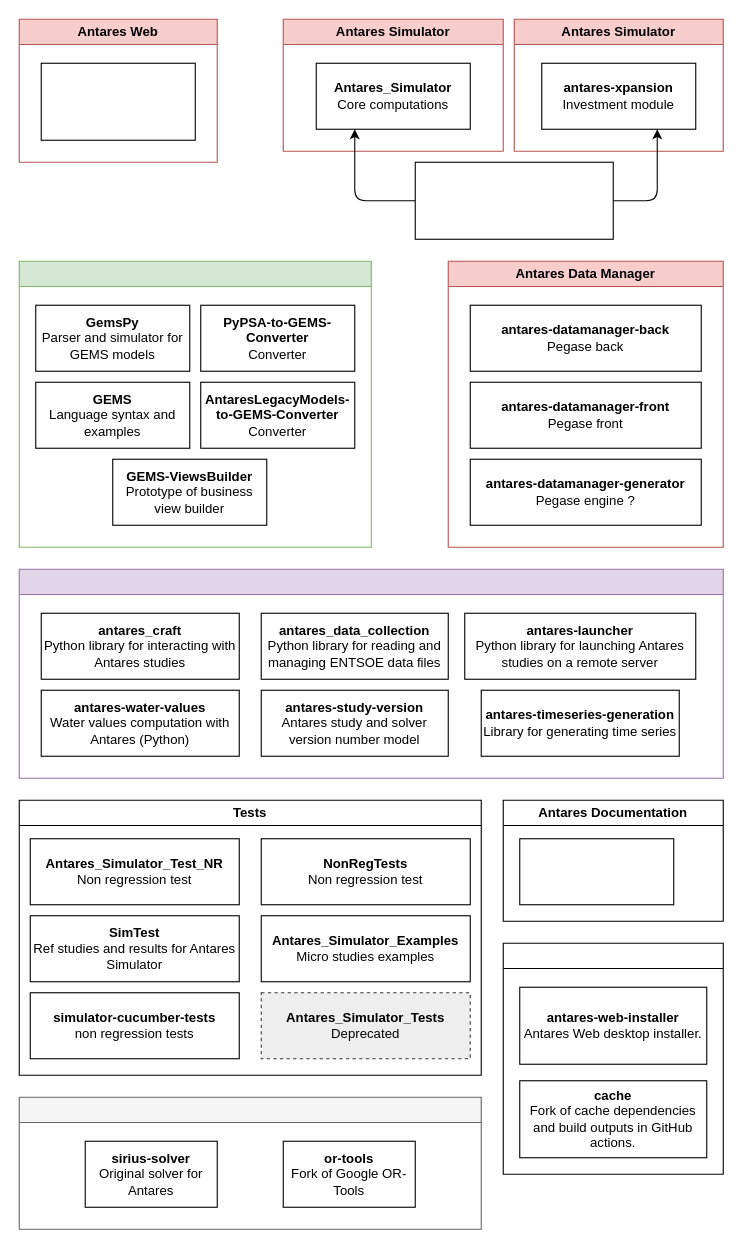
Image size: 743x1249. Some labels were removed from this diagram. The box of each missing label's shape, as (x1, y1, x2, y2) in pixels:
antares-doc Unified documentation: (519, 838, 674, 905)
antares-vcpkg-registry Shared dependencies of Antares Simulator & Xpansion: (414, 161, 613, 239)
AntaREST REST API and web UI for Antares: (40, 62, 195, 140)
GEMS (modelling language): (18, 260, 371, 547)
Other: (502, 942, 723, 1174)
Other libraries: (18, 568, 723, 778)
Public archive: (18, 1096, 481, 1229)
